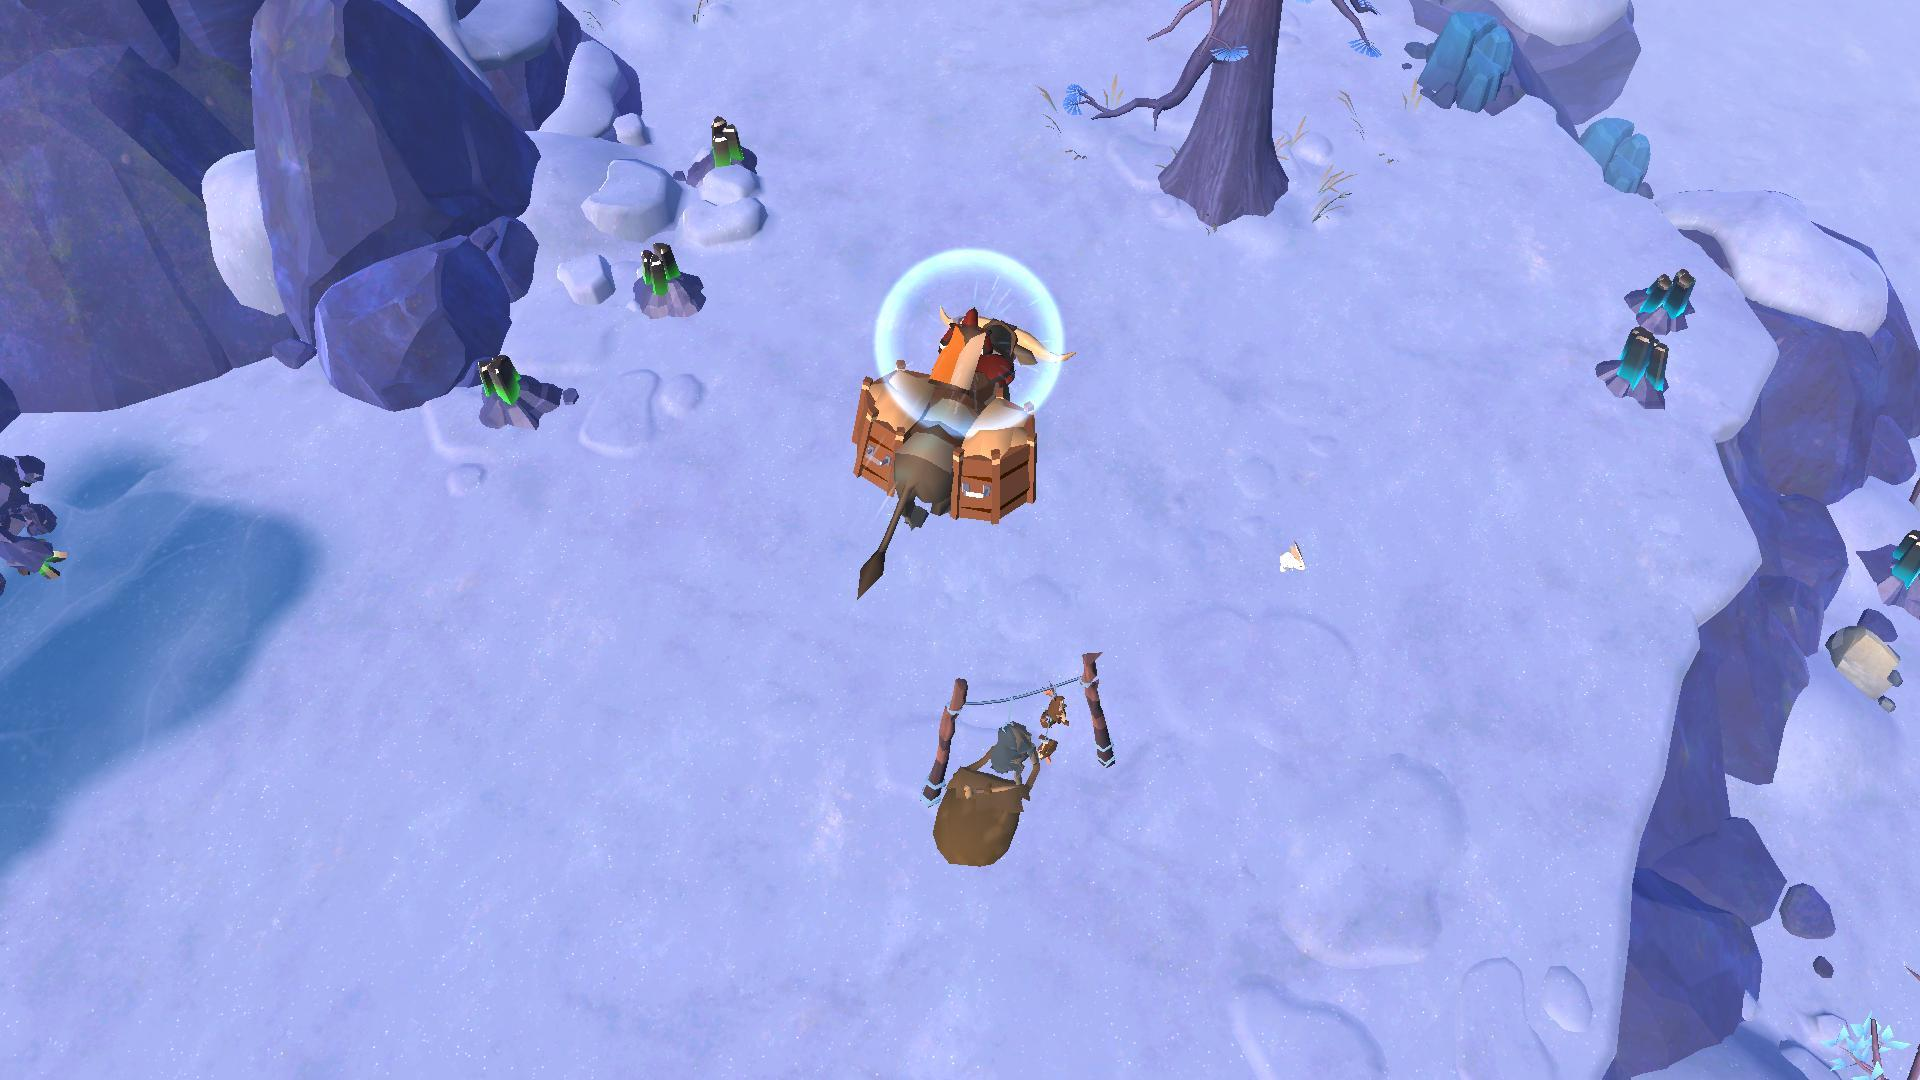ore_t3: (468, 348, 527, 407), (636, 228, 684, 297), (707, 109, 746, 169)
ore_t4: (1639, 257, 1697, 322), (1621, 326, 1668, 398)
rock_t4: (1404, 15, 1523, 121), (1557, 109, 1659, 210)
